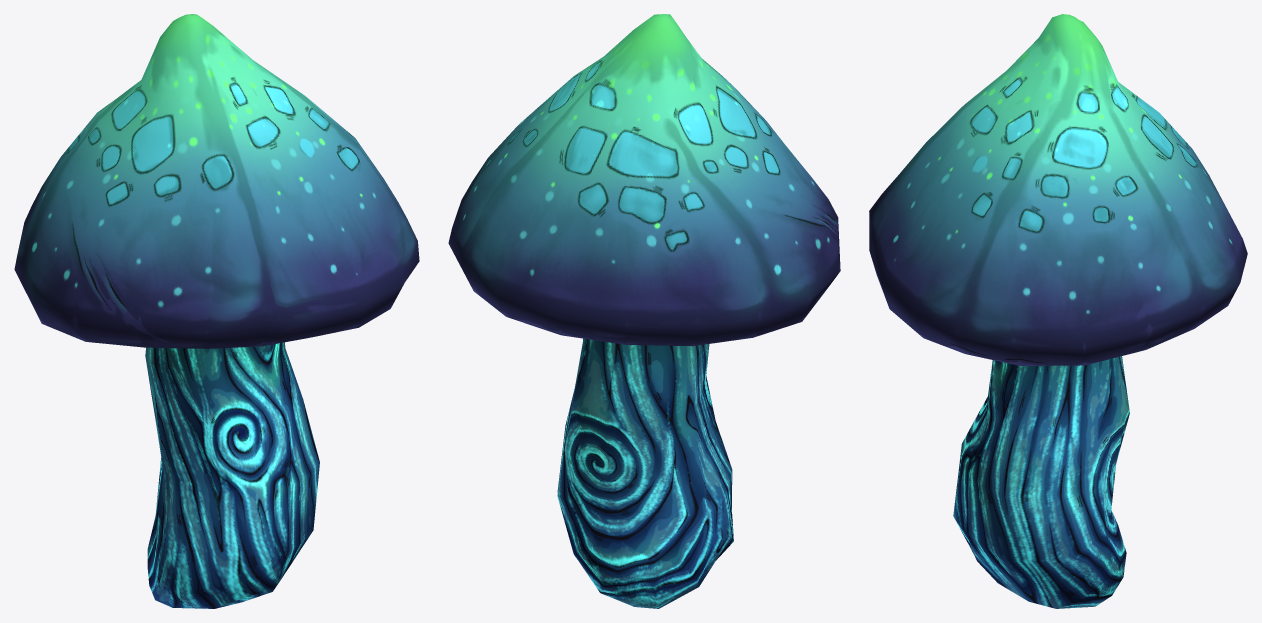
3 renders of one model, left to right at view 1: azimuth 30°, elevation 25°; view 2: azimuth 150°, elevation 25°; view 3: azimuth 270°, elevation 25°, orthographic. The views are drawn at different scales.
Parts seen in each view (by area): view 1: Retopo_grzyb4.002; view 2: Retopo_grzyb4.002; view 3: Retopo_grzyb4.002.
Part boxes in pixels (x1,y1,x2,y2): Retopo_grzyb4.002: (14, 14, 419, 608); Retopo_grzyb4.002: (448, 14, 840, 608); Retopo_grzyb4.002: (869, 14, 1247, 608).
Size of the model in its own units: 0.2749 by 0.4423 by 0.2637.
1 material, 1 textured.
